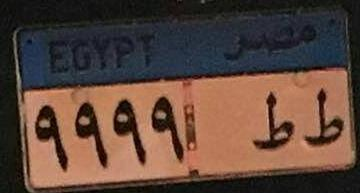9: (31, 99, 72, 170), (150, 92, 186, 168), (111, 99, 147, 170), (72, 101, 108, 170)
Taa: (300, 86, 345, 150), (250, 90, 296, 152)
